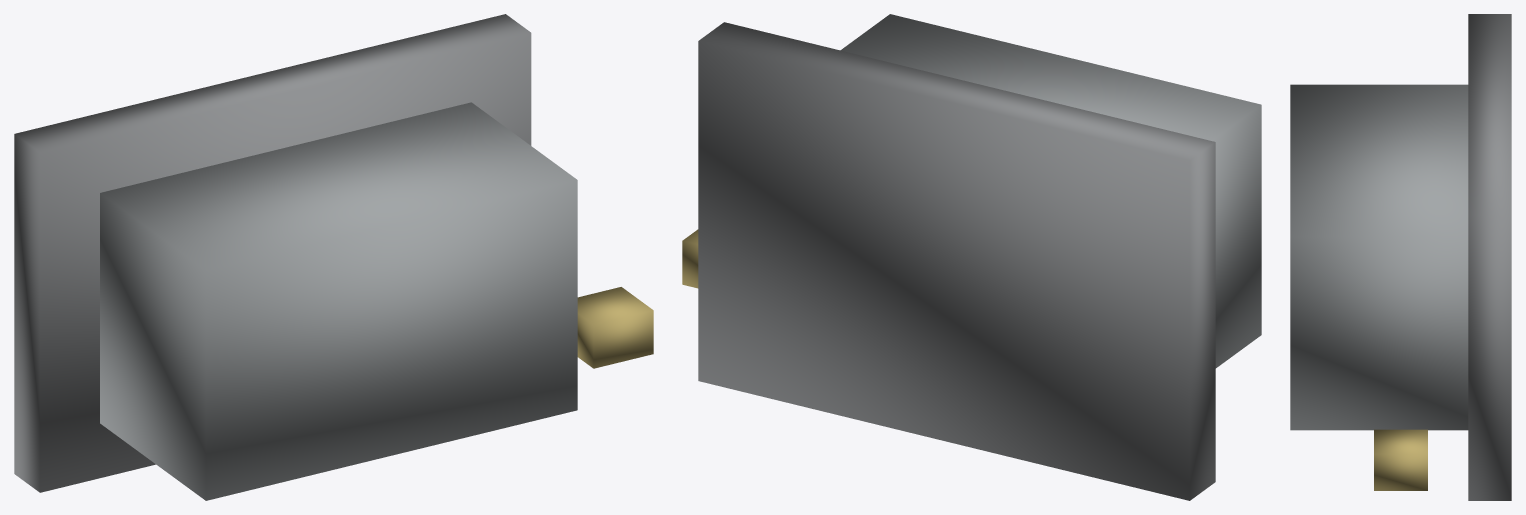
Rendered from duct_penetration_08.glb.
3 views of the same model, side by side, from view 1: azimuth 30°, elevation 25°; view 2: azimuth 150°, elevation 25°; view 3: azimuth 270°, elevation 25° (orthographic). The views are drawn at different scales.
Parts seen in each view (by area): view 1: world; view 2: world; view 3: world.
Part boxes in pixels (x1=…): world: x1=14, y1=14, x2=653, y2=500; world: x1=682, y1=14, x2=1261, y2=500; world: x1=1290, y1=14, x2=1511, y2=500.
Size of the model in its own units: 1.04 by 0.6076 by 0.4264.
